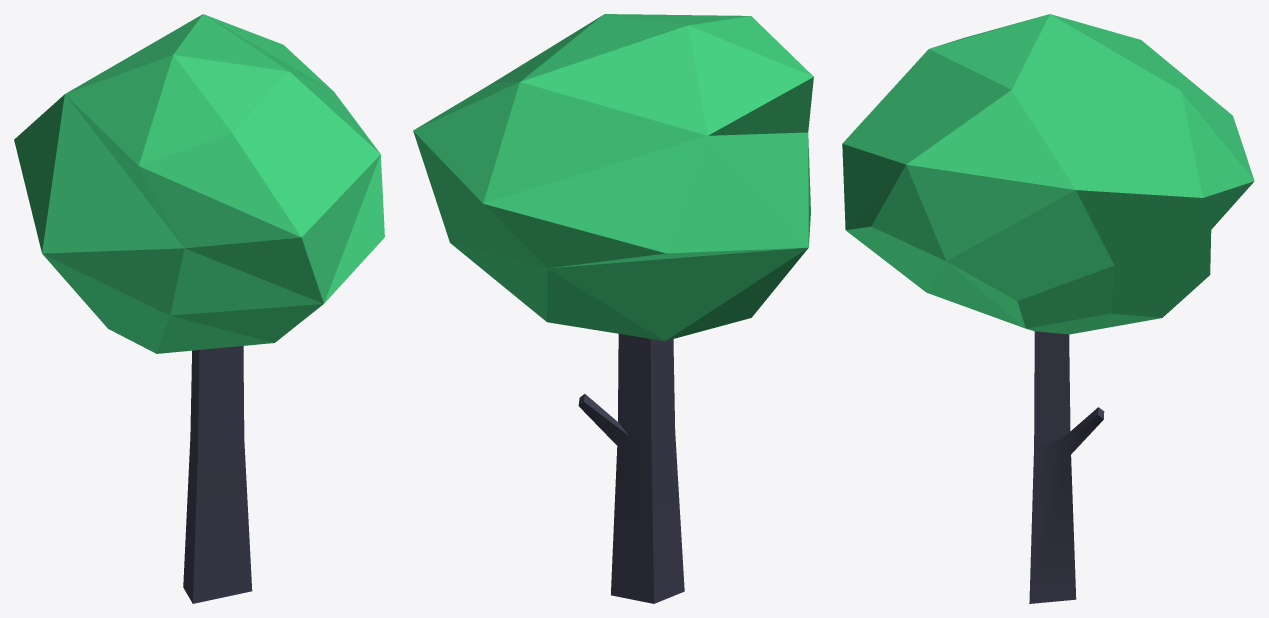
Rendered from Tree2.gltf.
The picture shows the model from 3 angles, left to right: view 1: azimuth 30°, elevation 25°; view 2: azimuth 150°, elevation 25°; view 3: azimuth 270°, elevation 25°; orthographic projection. The views are drawn at different scales.
Parts seen in each view (by area): view 1: Crown, Trunk; view 2: Crown, Trunk; view 3: Crown, Trunk.
Part boxes in pixels (x1,y1,x2,y2): Crown: [14, 14, 384, 353]; Trunk: [183, 346, 252, 603]; Crown: [413, 14, 813, 341]; Trunk: [578, 334, 684, 603]; Crown: [842, 14, 1254, 334]; Trunk: [1029, 331, 1104, 603].
Size of the model in its own units: 0.0742 by 0.1254 by 0.0843.
